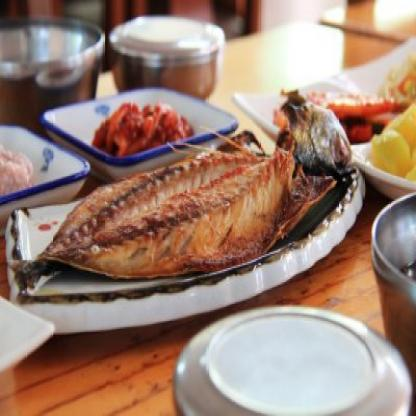Peixe: (15, 103, 356, 324)
